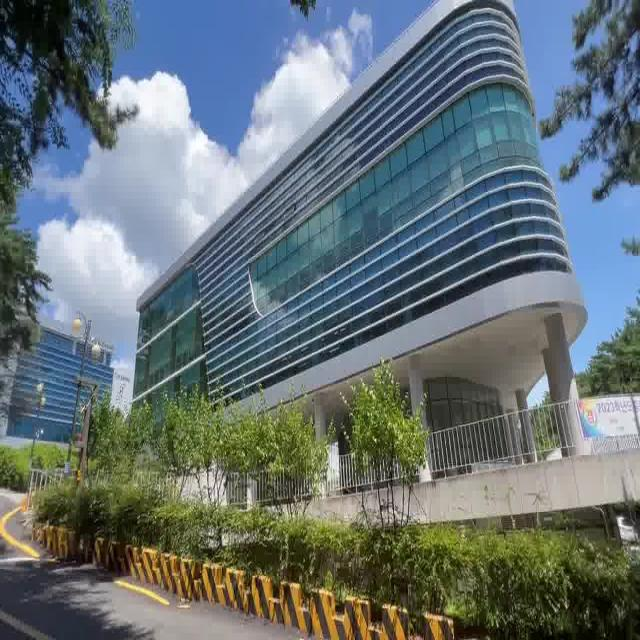building: (145, 0, 572, 391)
